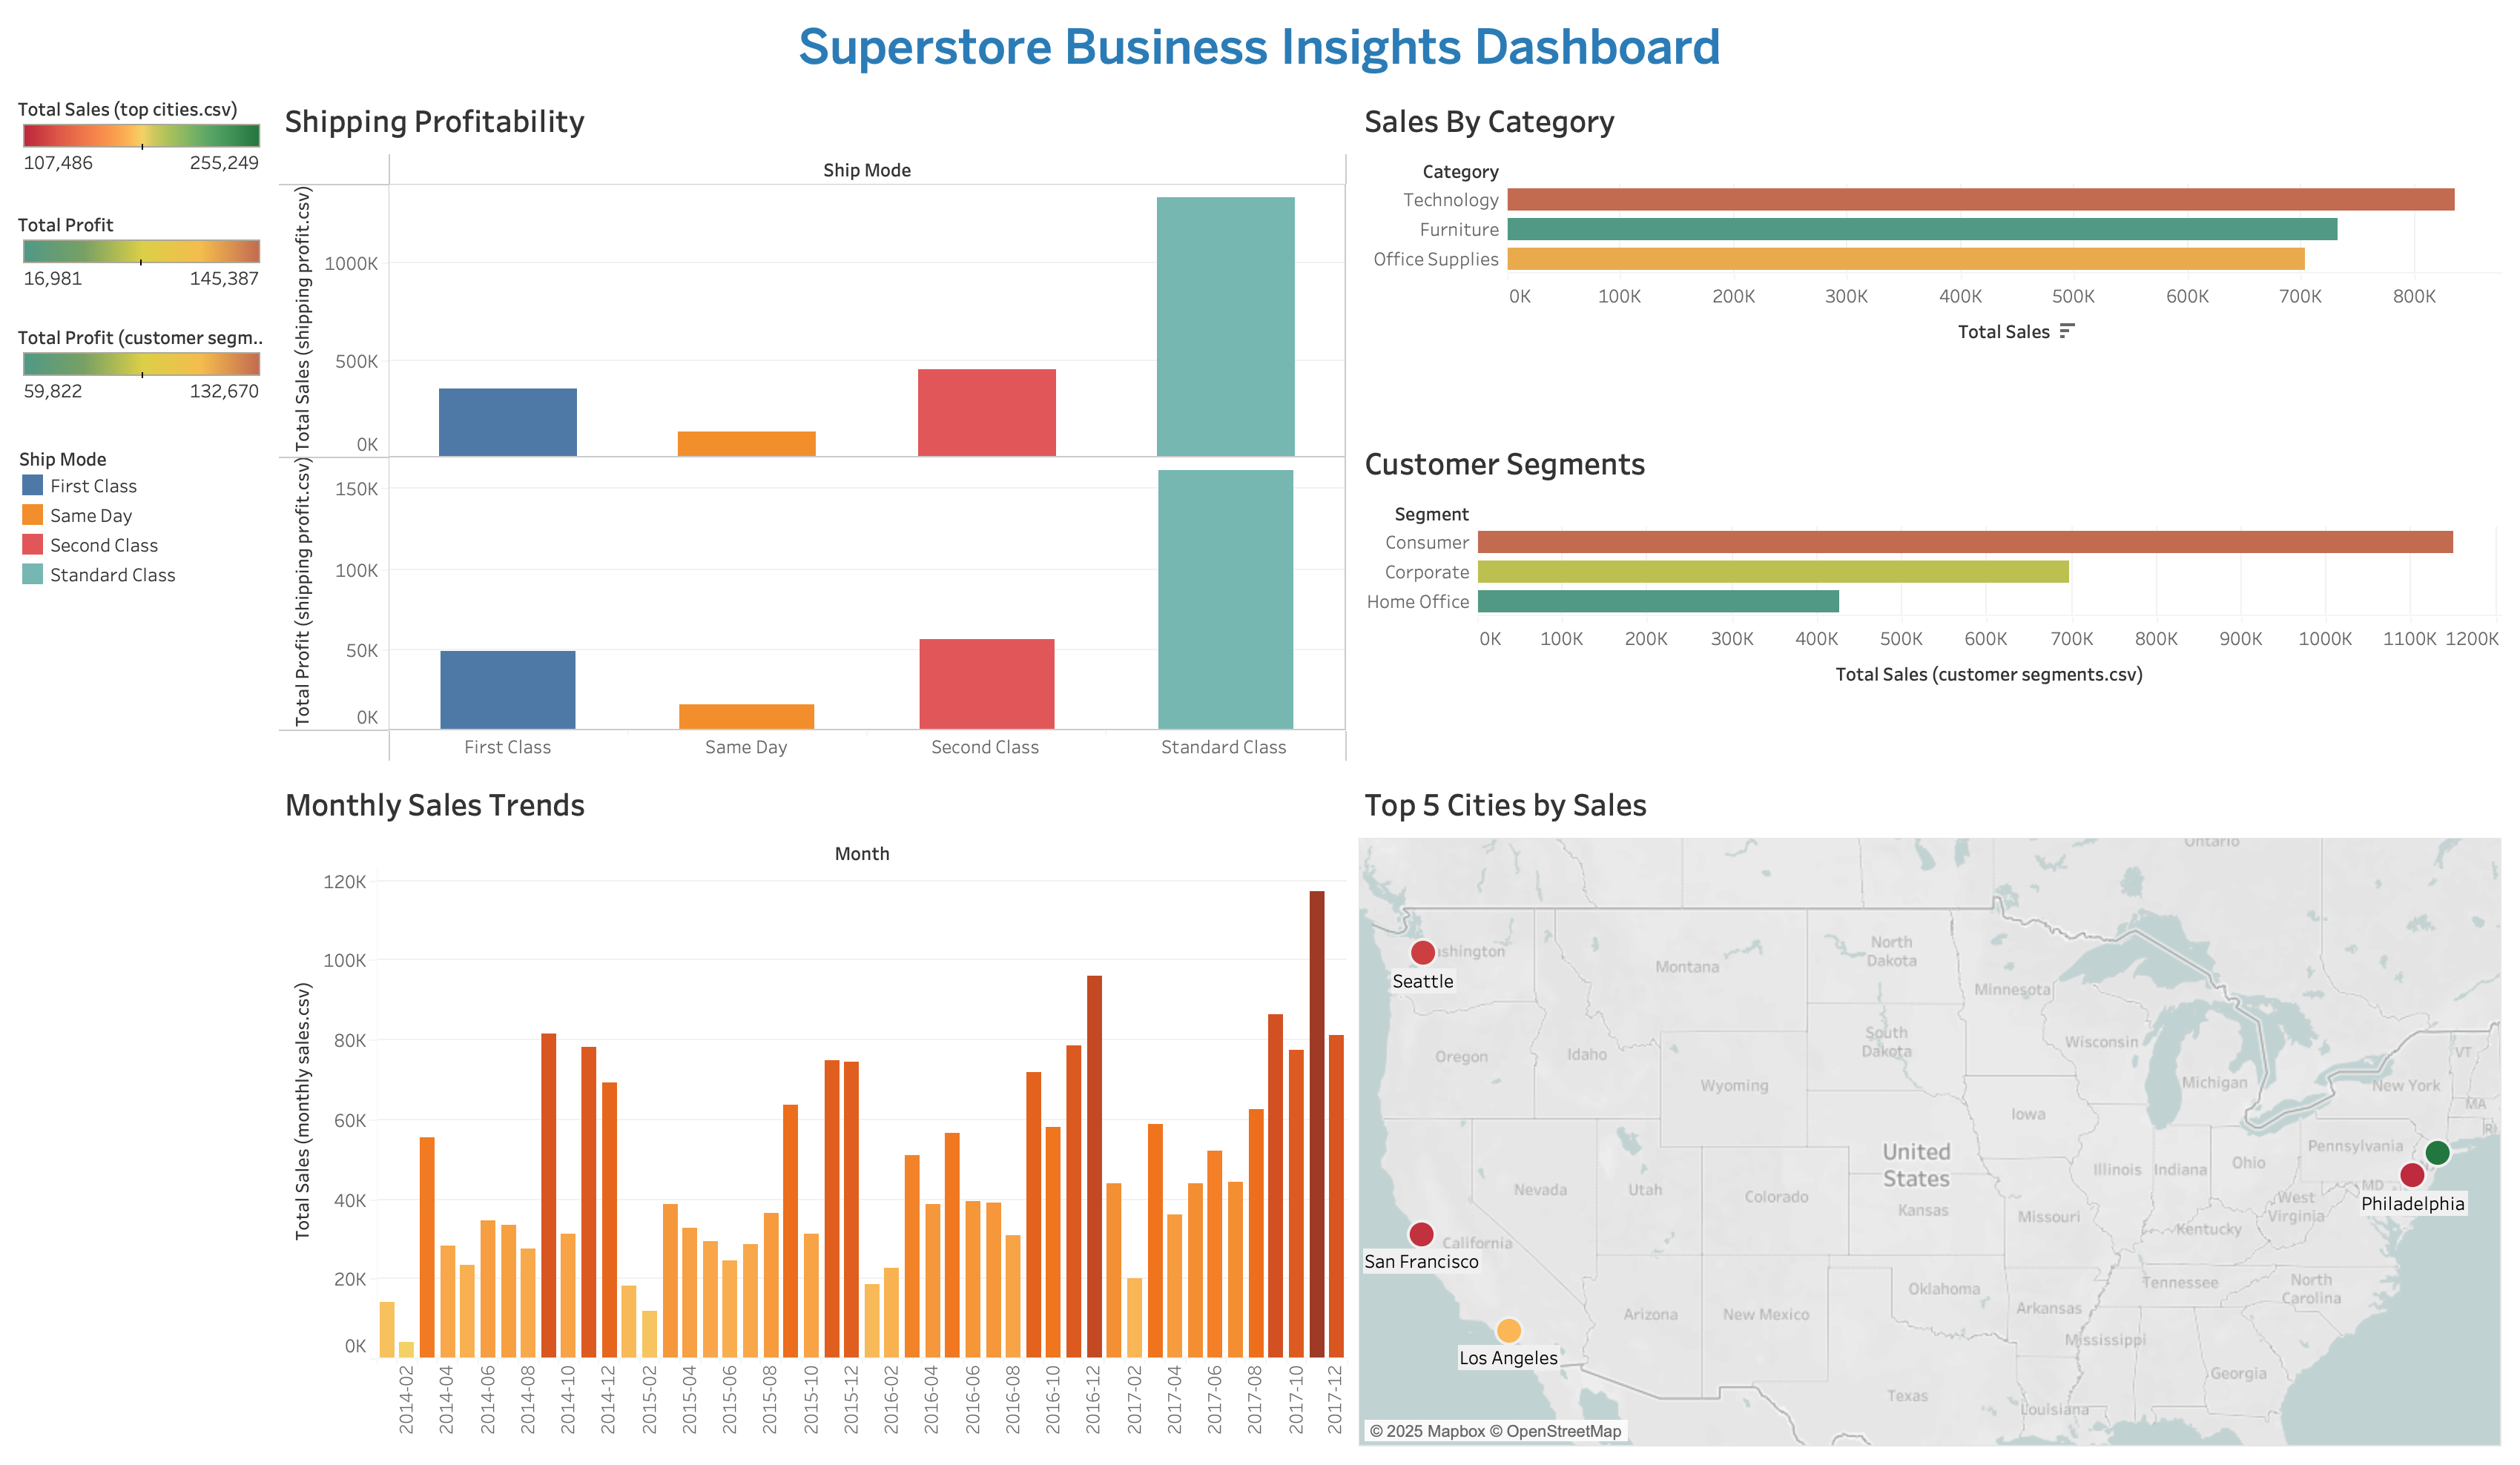

The dashboard page shown, as its layout file describes it:
{"tool":"tableau","page":{"name":"SuperStore","canvas":[1000,1000],"units":"permille","ordinal":0},"visuals":[{"type":"text","box":[4.7,8.1,990.6,49.5]},{"type":"legend","title":"Top 5 Cities by Sales","param":"[federated.0jkhtgo18gwdwf1agdohc0dsdaj8].[sum:Total_Sales (top_cities.csv):qk]","box":[4.7,57.6,103.5,78.9]},{"type":"worksheet","title":"Shipping Profitability","mark":"Automatic","rows":["Total_Sales (shipping_profit.csv)","Total_Profit (shipping_profit.csv)"],"cols":["Ship Mode"],"box":[108.2,57.6,428.5,467.1]},{"type":"worksheet","title":"Sales by Category","mark":"Automatic","rows":["Category"],"cols":["Total_Sales"],"box":[536.7,57.6,458.6,233.5]},{"type":"legend","title":"Sales by Category","param":"[federated.0jkhtgo18gwdwf1agdohc0dsdaj8].[sum:Total_Profit:qk]","box":[4.7,136.6,103.5,76.9]},{"type":"legend","title":"Customer Segments","param":"[federated.0jkhtgo18gwdwf1agdohc0dsdaj8].[sum:Total_Profit (customer_segments.cs","box":[4.7,213.5,103.5,85]},{"type":"worksheet","title":"Customer Segments","mark":"Automatic","rows":["Segment"],"cols":["Total_Sales (customer_segments.csv)"],"box":[536.7,291.2,458.6,233.6]},{"type":"legend","title":"Shipping Profitability","param":"[federated.0jkhtgo18gwdwf1agdohc0dsdaj8].[none:Ship Mode:nk]","box":[4.7,298.5,103.5,135.6]},{"type":"worksheet","title":"Monthly Sales Trends","mark":"Automatic","rows":["Total_Sales (monthly_sales.csv)"],"cols":["Month"],"box":[108.2,524.7,428.5,467.2]},{"type":"worksheet","title":"Top 5 Cities by Sales","mark":"Automatic","box":[536.7,524.7,458.6,467.2]}]}

Visuals, with their boxes on the dashboard's canvas, which has no fixed pixel size, in thousandths of its width and height (x1, y1, x2, y2). These are canvas units, not pixel positions in the 2520x1465 screenshot, which may show the page scaled, cropped or inside an application window:
text: 5, 8, 995, 58
"Top 5 Cities by Sales" legend: 5, 58, 108, 136
"Shipping Profitability" worksheet: 108, 58, 537, 525
"Sales by Category" worksheet: 537, 58, 995, 291
"Sales by Category" legend: 5, 137, 108, 214
"Customer Segments" legend: 5, 214, 108, 298
"Customer Segments" worksheet: 537, 291, 995, 525
"Shipping Profitability" legend: 5, 298, 108, 434
"Monthly Sales Trends" worksheet: 108, 525, 537, 992
"Top 5 Cities by Sales" worksheet: 537, 525, 995, 992
